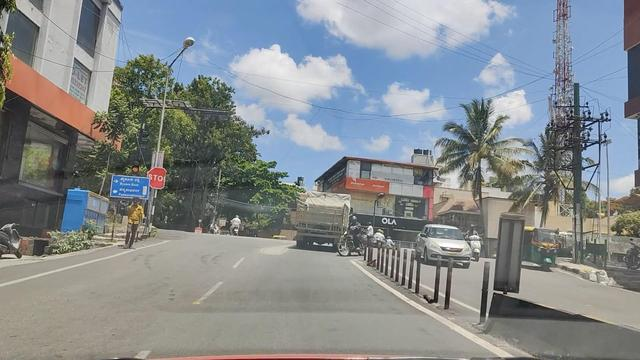HMV: (298, 191, 347, 245)
